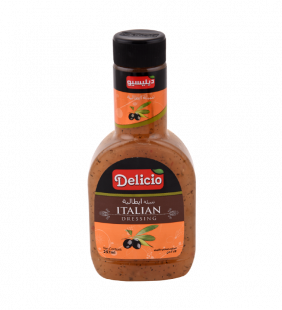DELICIO: (81, 24, 202, 286)
